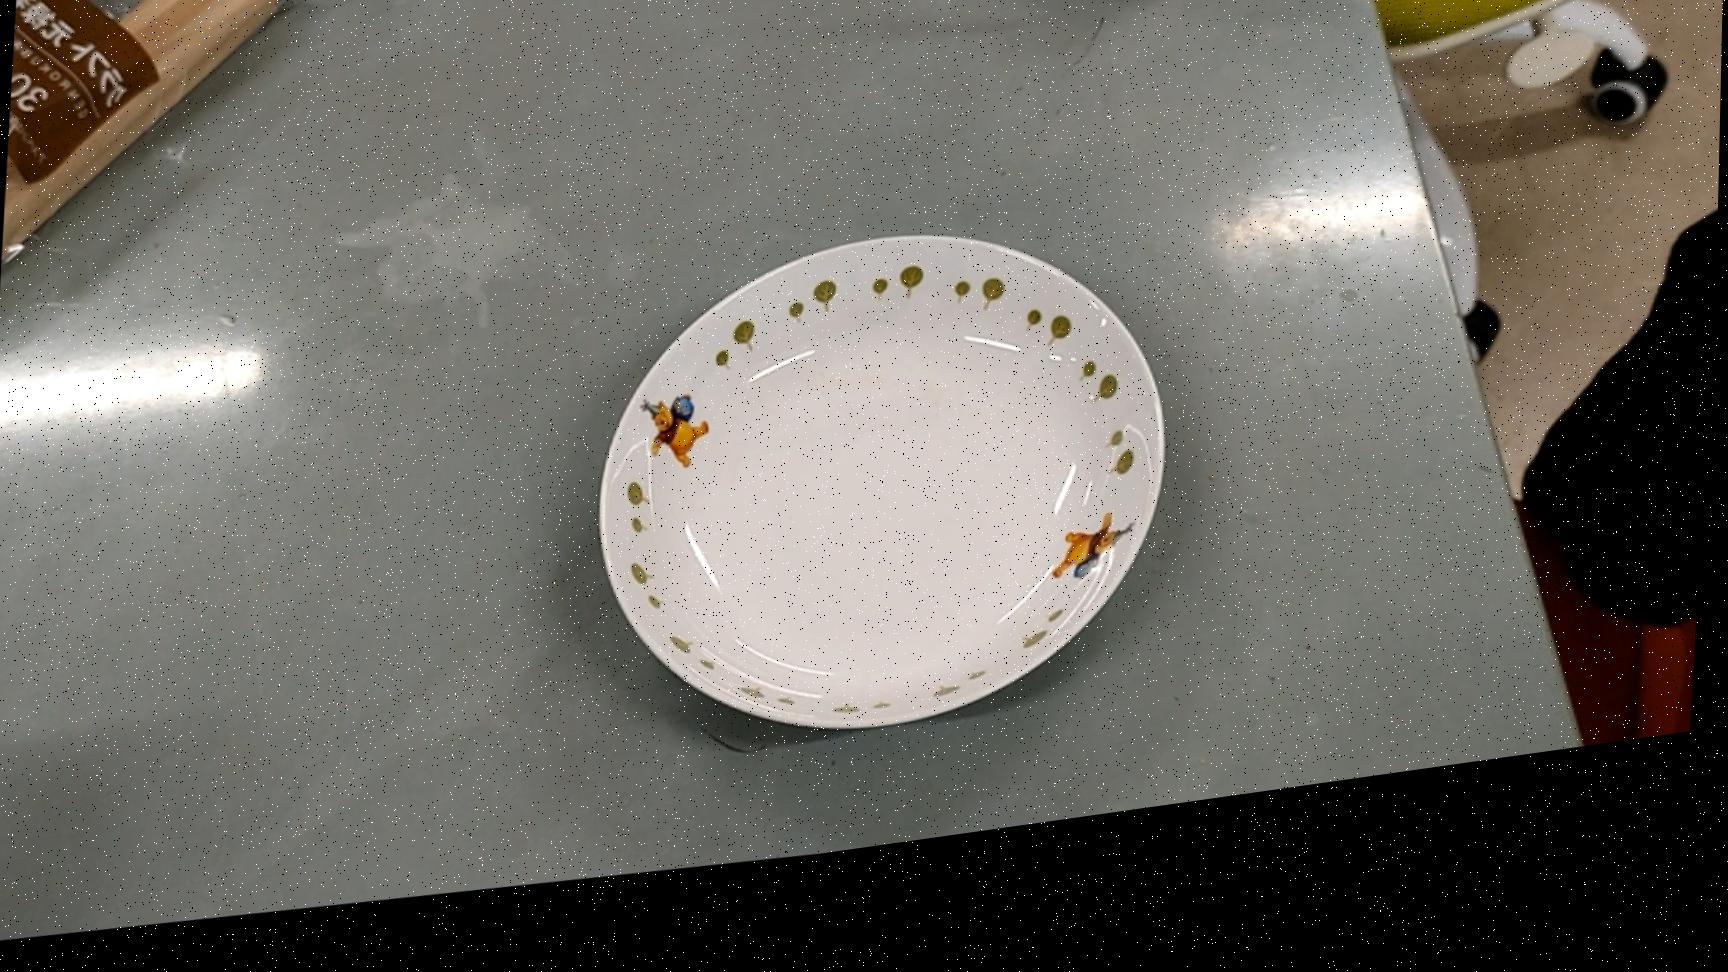plate: (596, 223, 1177, 793)
